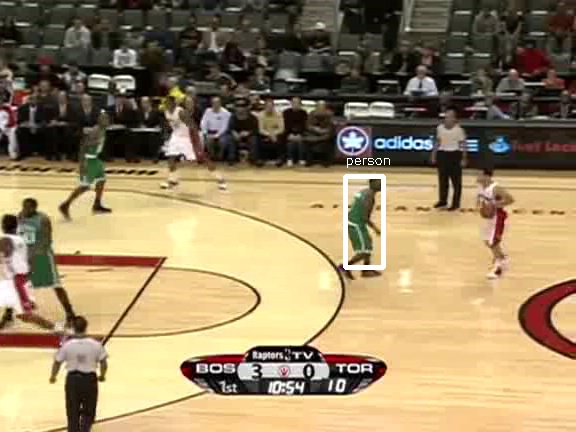person: (344, 180, 378, 261), (343, 180, 377, 261), (345, 180, 379, 261), (344, 179, 378, 260), (344, 181, 378, 262)
target_negative: (251, 23, 514, 327), (445, 137, 502, 400), (12, 189, 152, 275), (384, 321, 558, 366), (479, 291, 524, 401), (507, 346, 529, 397)
